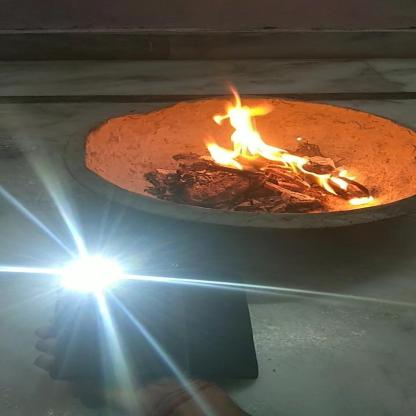fire: (200, 81, 375, 205)
